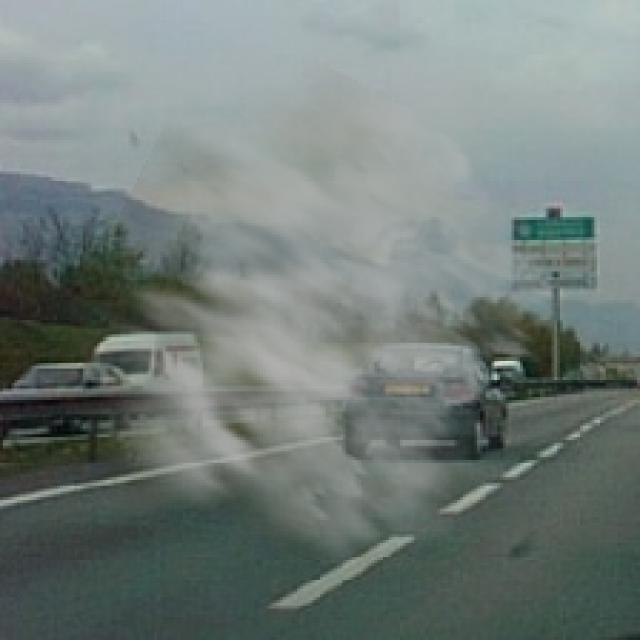smoke: (20, 54, 571, 586)
